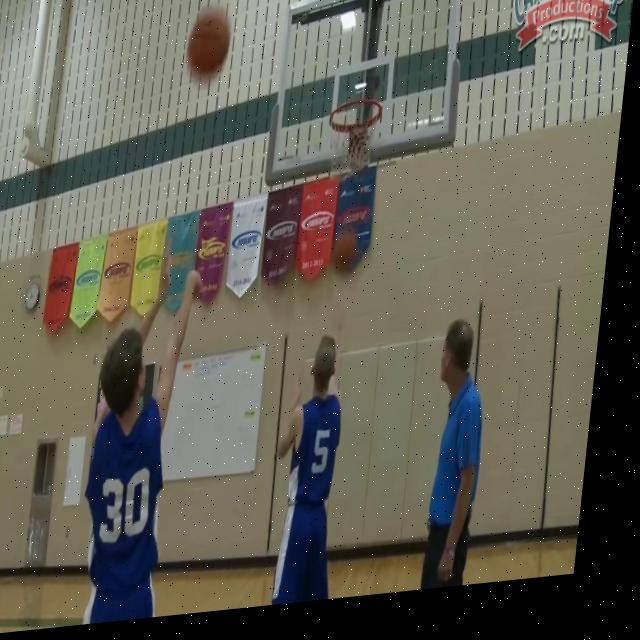basketball: (185, 3, 234, 80), (332, 227, 359, 273)
hoop: (324, 96, 383, 175)
